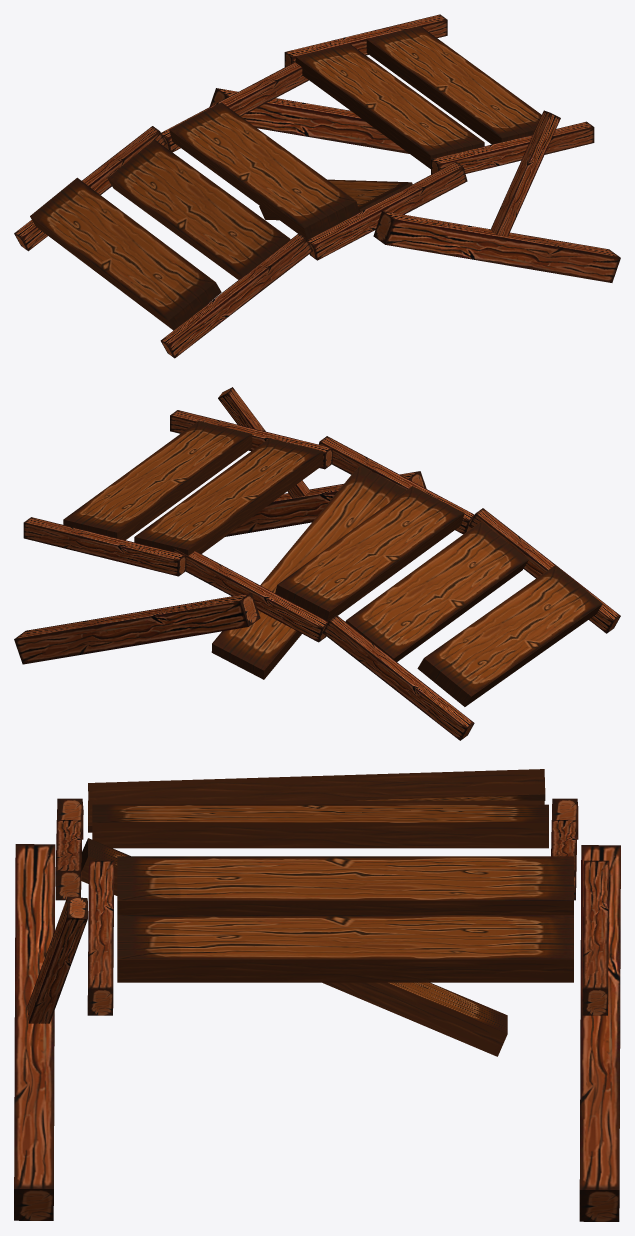
Rendered from Broken_bridge.fbx.
The picture shows the model from 3 angles, top to bottom: view 1: azimuth 30°, elevation 25°; view 2: azimuth 150°, elevation 25°; view 3: azimuth 270°, elevation 25°; orthographic projection. The views are drawn at different scales.
Visible parts, largest first — view 1: Ramp; view 2: Ramp; view 3: Ramp.
Part boxes in pixels (<box>): Ramp: <box>14,14,620,358</box>; Ramp: <box>14,387,620,740</box>; Ramp: <box>14,769,620,1221</box>.
Size of the model in its own units: 87.34 by 32.11 by 61.55.
